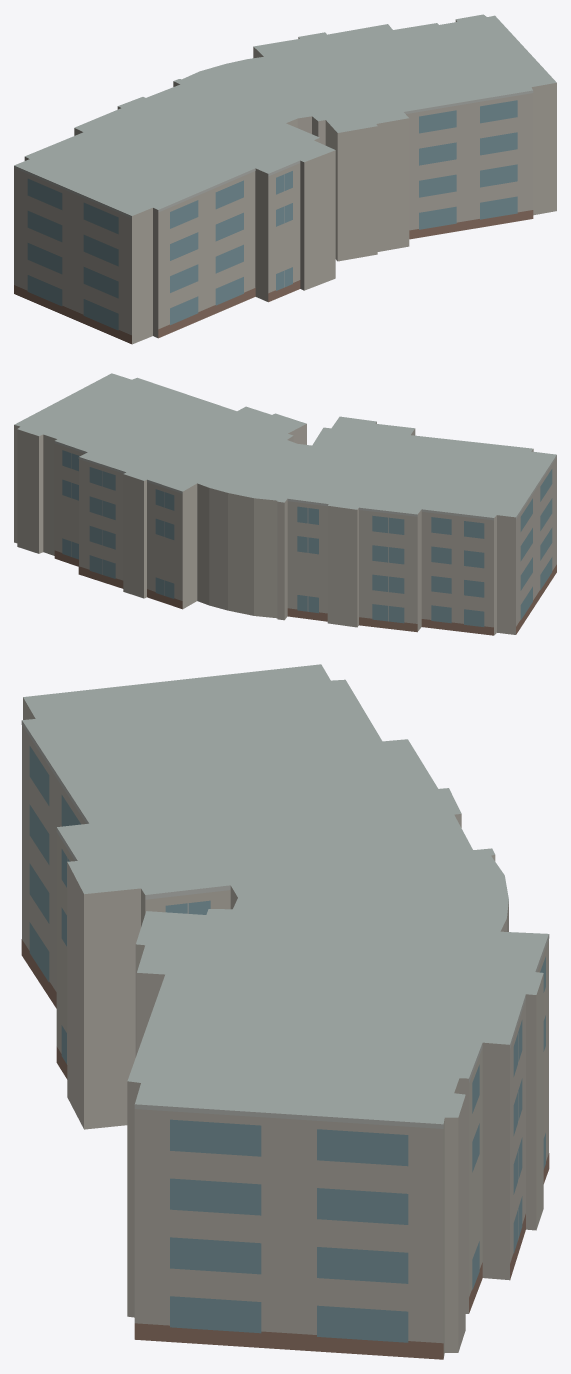
The model's file is survey-upis-32835647.glb.
3 views of the same model, one above another, from view 1: azimuth 30°, elevation 25°; view 2: azimuth 150°, elevation 25°; view 3: azimuth 270°, elevation 25° (orthographic). The views are drawn at different scales.
Visible parts, largest first — view 1: survey-upis-32835647.tmp; view 2: survey-upis-32835647.tmp; view 3: survey-upis-32835647.tmp.
Part boxes in pixels (x1,y1,x2,y2): survey-upis-32835647.tmp: (14,14,556,344); survey-upis-32835647.tmp: (14,373,556,635); survey-upis-32835647.tmp: (21,664,549,1359).
Bounding box in the file's own units: 51.15 × 12.2 × 24.77.
